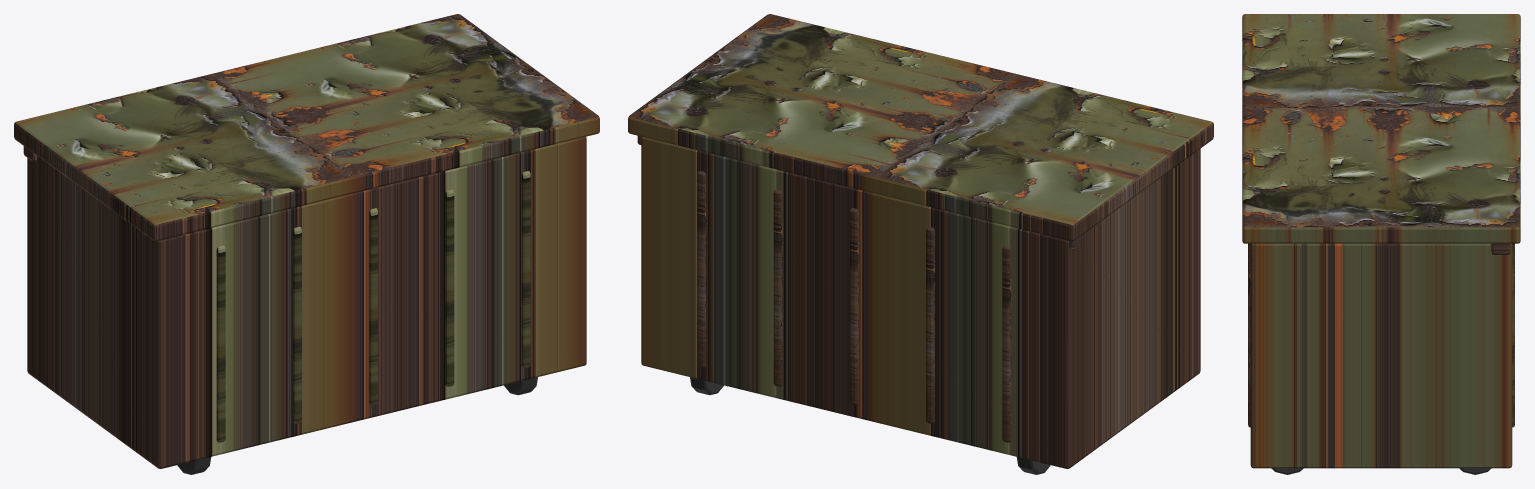
File: dumpster.glb
The picture shows the model from 3 angles, left to right: view 1: azimuth 30°, elevation 25°; view 2: azimuth 150°, elevation 25°; view 3: azimuth 270°, elevation 25°; orthographic projection.
Parts seen in each view (by area): view 1: dumpster; view 2: dumpster; view 3: dumpster.
Boxes of the visible parts, bbox=[...] form: dumpster: bbox=[14, 14, 599, 474]; dumpster: bbox=[628, 14, 1213, 474]; dumpster: bbox=[1242, 14, 1520, 474].
Bounding box in the file's own units: 2.05 × 1.22 × 1.13.
4 materials, 3 textured.
